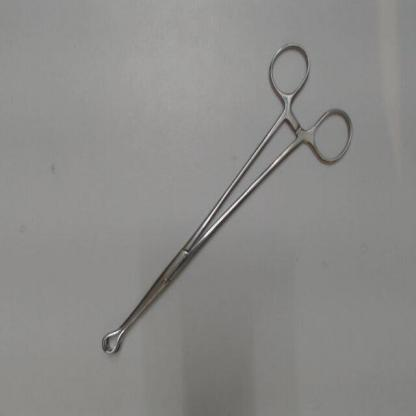8 Babcock Tissue Forceps: (96, 34, 359, 363)
